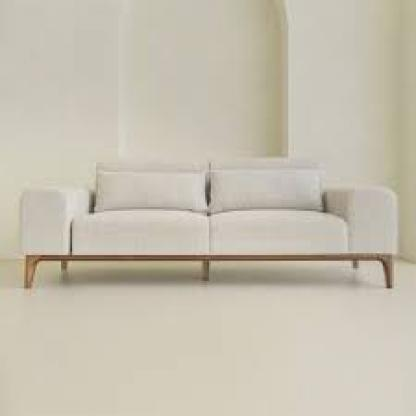sofa: (24, 157, 405, 292)
